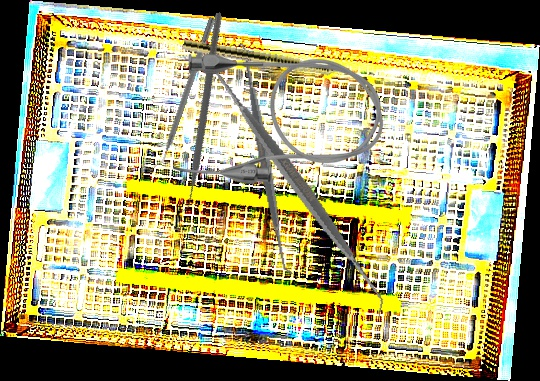Cannula: (173, 54, 384, 184)
Chopper: (107, 11, 287, 217), (147, 13, 216, 174)
Handpiece: (182, 38, 365, 84)
Spatula Surgical: (162, 49, 433, 320), (231, 40, 299, 278)
